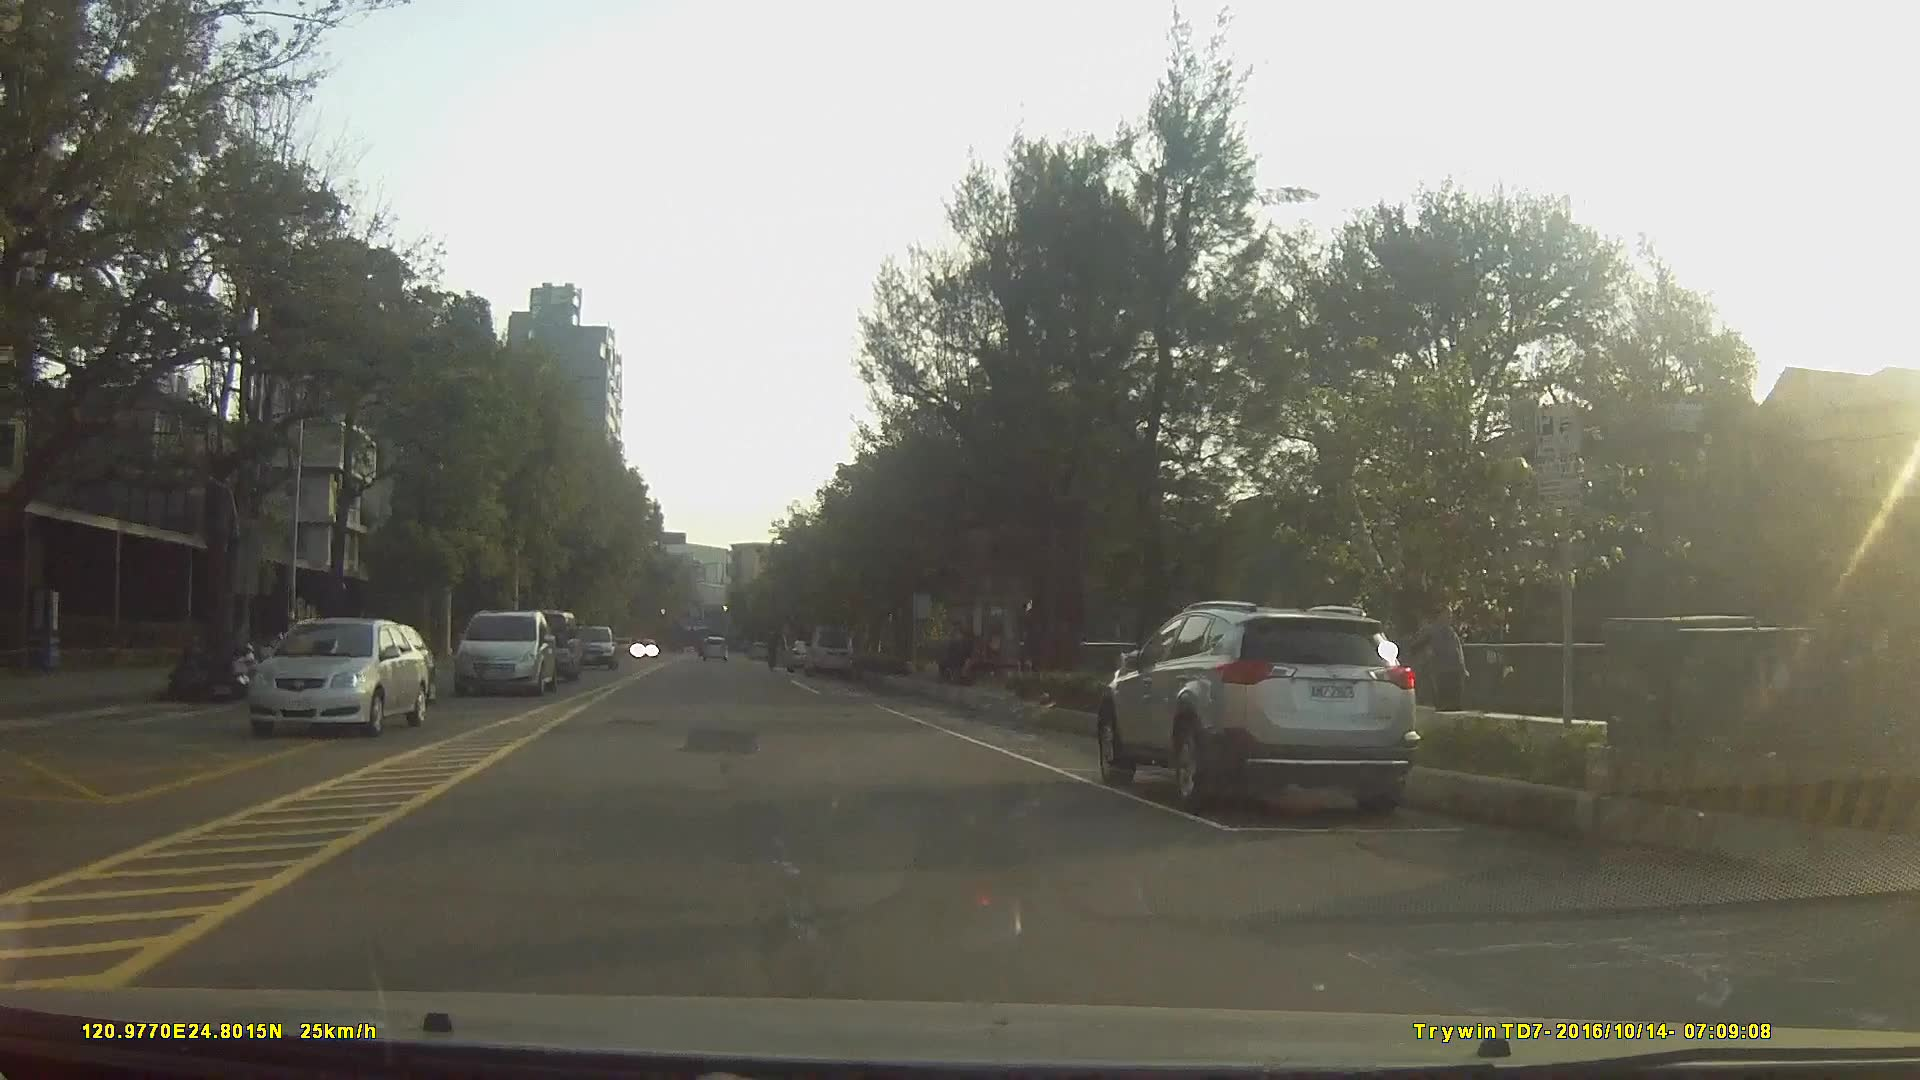vehicle: (1100, 596, 1419, 814), (247, 618, 429, 737), (454, 607, 555, 695), (803, 624, 856, 678), (566, 622, 618, 667), (783, 640, 819, 673), (700, 633, 729, 662)
